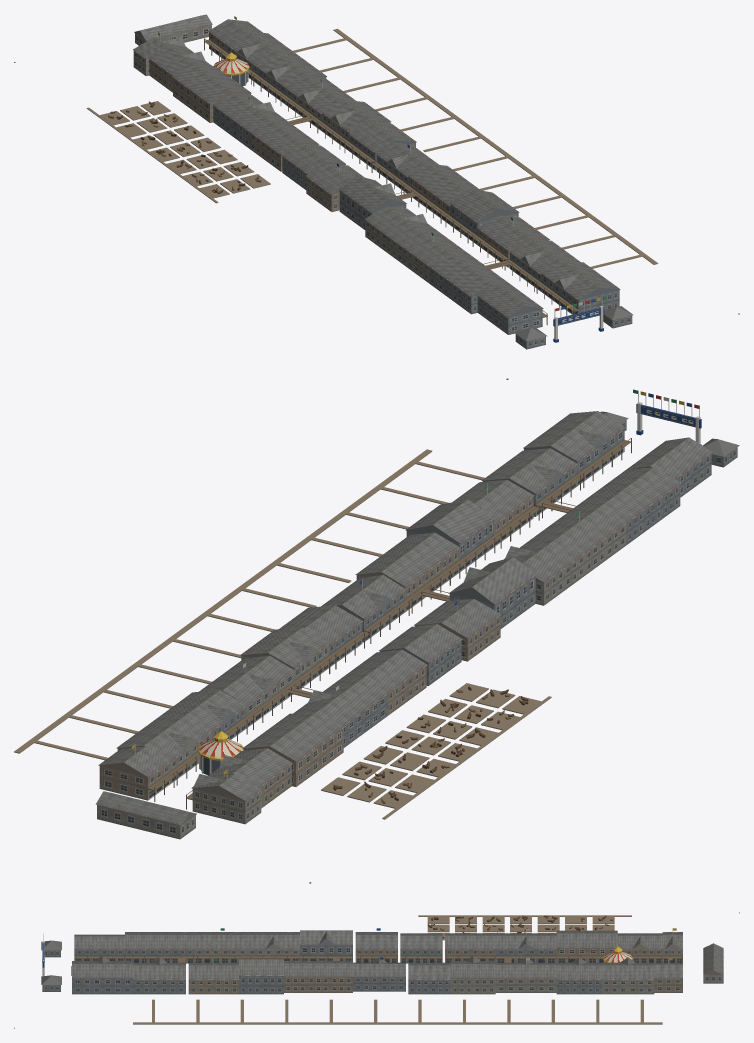
The model's file is pier_39.glb.
3 renders of one model, top to bottom at view 1: azimuth 30°, elevation 25°; view 2: azimuth 150°, elevation 25°; view 3: azimuth 270°, elevation 25°, orthographic. The views are drawn at different scales.
Visible parts, largest first — view 1: pier_39; view 2: pier_39; view 3: pier_39.
Part boxes in pixels (x1,y1,x2,y2): pier_39: (14,14,739,349); pier_39: (14,378,739,883); pier_39: (14,912,739,1028).
Bounding box in the file's own units: 135 × 14.99 × 357.
Materials: 2 (2 with a texture image).
